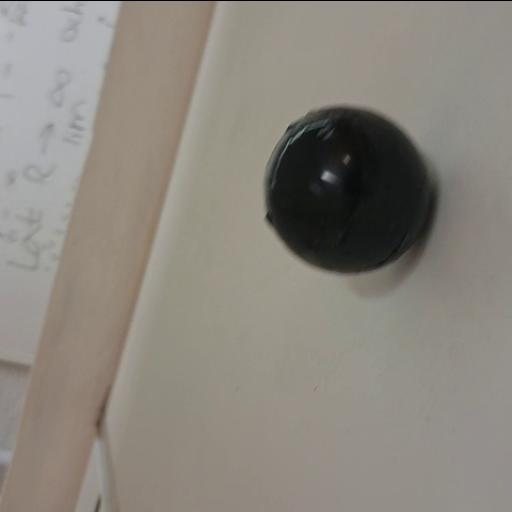dead: (264, 108, 436, 274)
